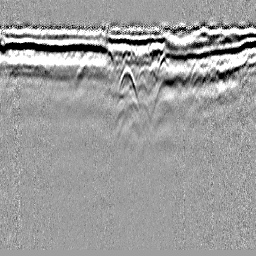cavity: (118, 65, 138, 99)
